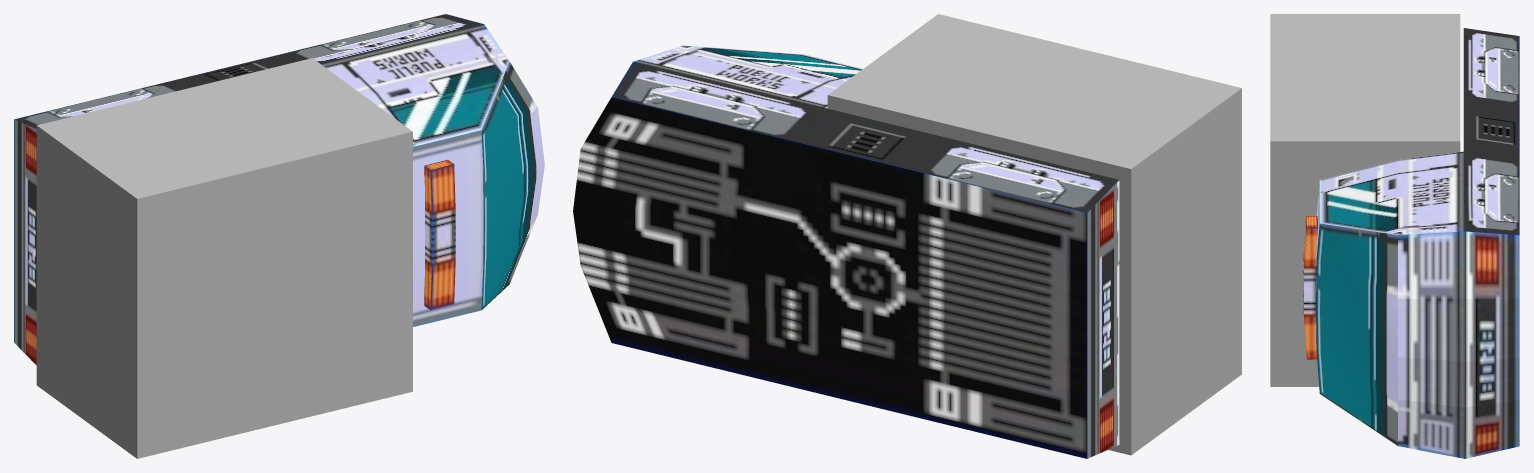
Rendered from publicWorks_boxTruck.glb.
3 views of the same model, side by side, from view 1: azimuth 30°, elevation 25°; view 2: azimuth 150°, elevation 25°; view 3: azimuth 270°, elevation 25° (orthographic). The views are drawn at different scales.
Visible parts, largest first — view 1: truck_box, public_works; view 2: public_works, truck_box; view 3: public_works, truck_box.
Part boxes in pixels (x1,y1,x2,y2): truck_box: [36, 58, 412, 458]; public_works: [14, 14, 544, 365]; public_works: [573, 45, 1119, 458]; truck_box: [827, 14, 1241, 455]; public_works: [1303, 28, 1519, 458]; truck_box: [1270, 14, 1460, 386].
Size of the model in its own units: 57.5 by 29.47 by 27.1.
Materials: 2 (1 with a texture image).
